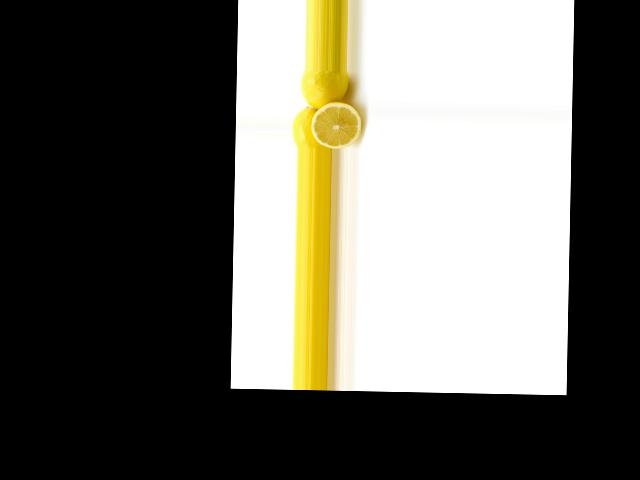lemon: (294, 99, 332, 148)
